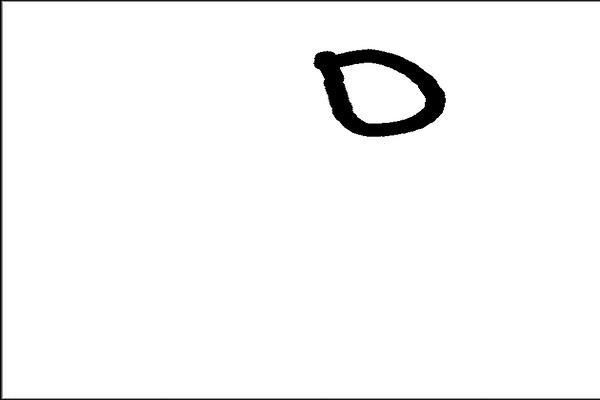D: (308, 42, 451, 142)
